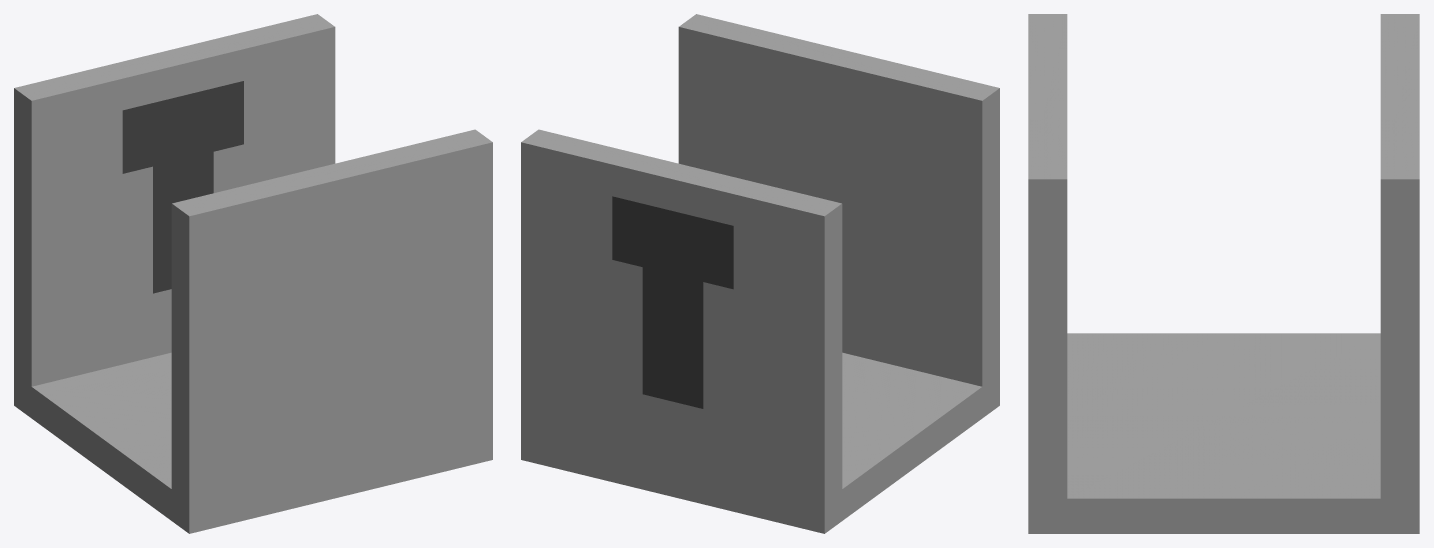
The picture shows the model from 3 angles, left to right: view 1: azimuth 30°, elevation 25°; view 2: azimuth 150°, elevation 25°; view 3: azimuth 270°, elevation 25°; orthographic projection. The views are drawn at different scales.
Visible parts, largest first — view 1: LR; view 2: LR; view 3: LR.
Boxes of the visible parts, x1,y1,x2,y2 form: LR: (14,14,492,533); LR: (521,14,999,533); LR: (1028,14,1419,533).
Size of the model in its own units: 10 by 10 by 10.
Materials: 1 (1 with a texture image).
